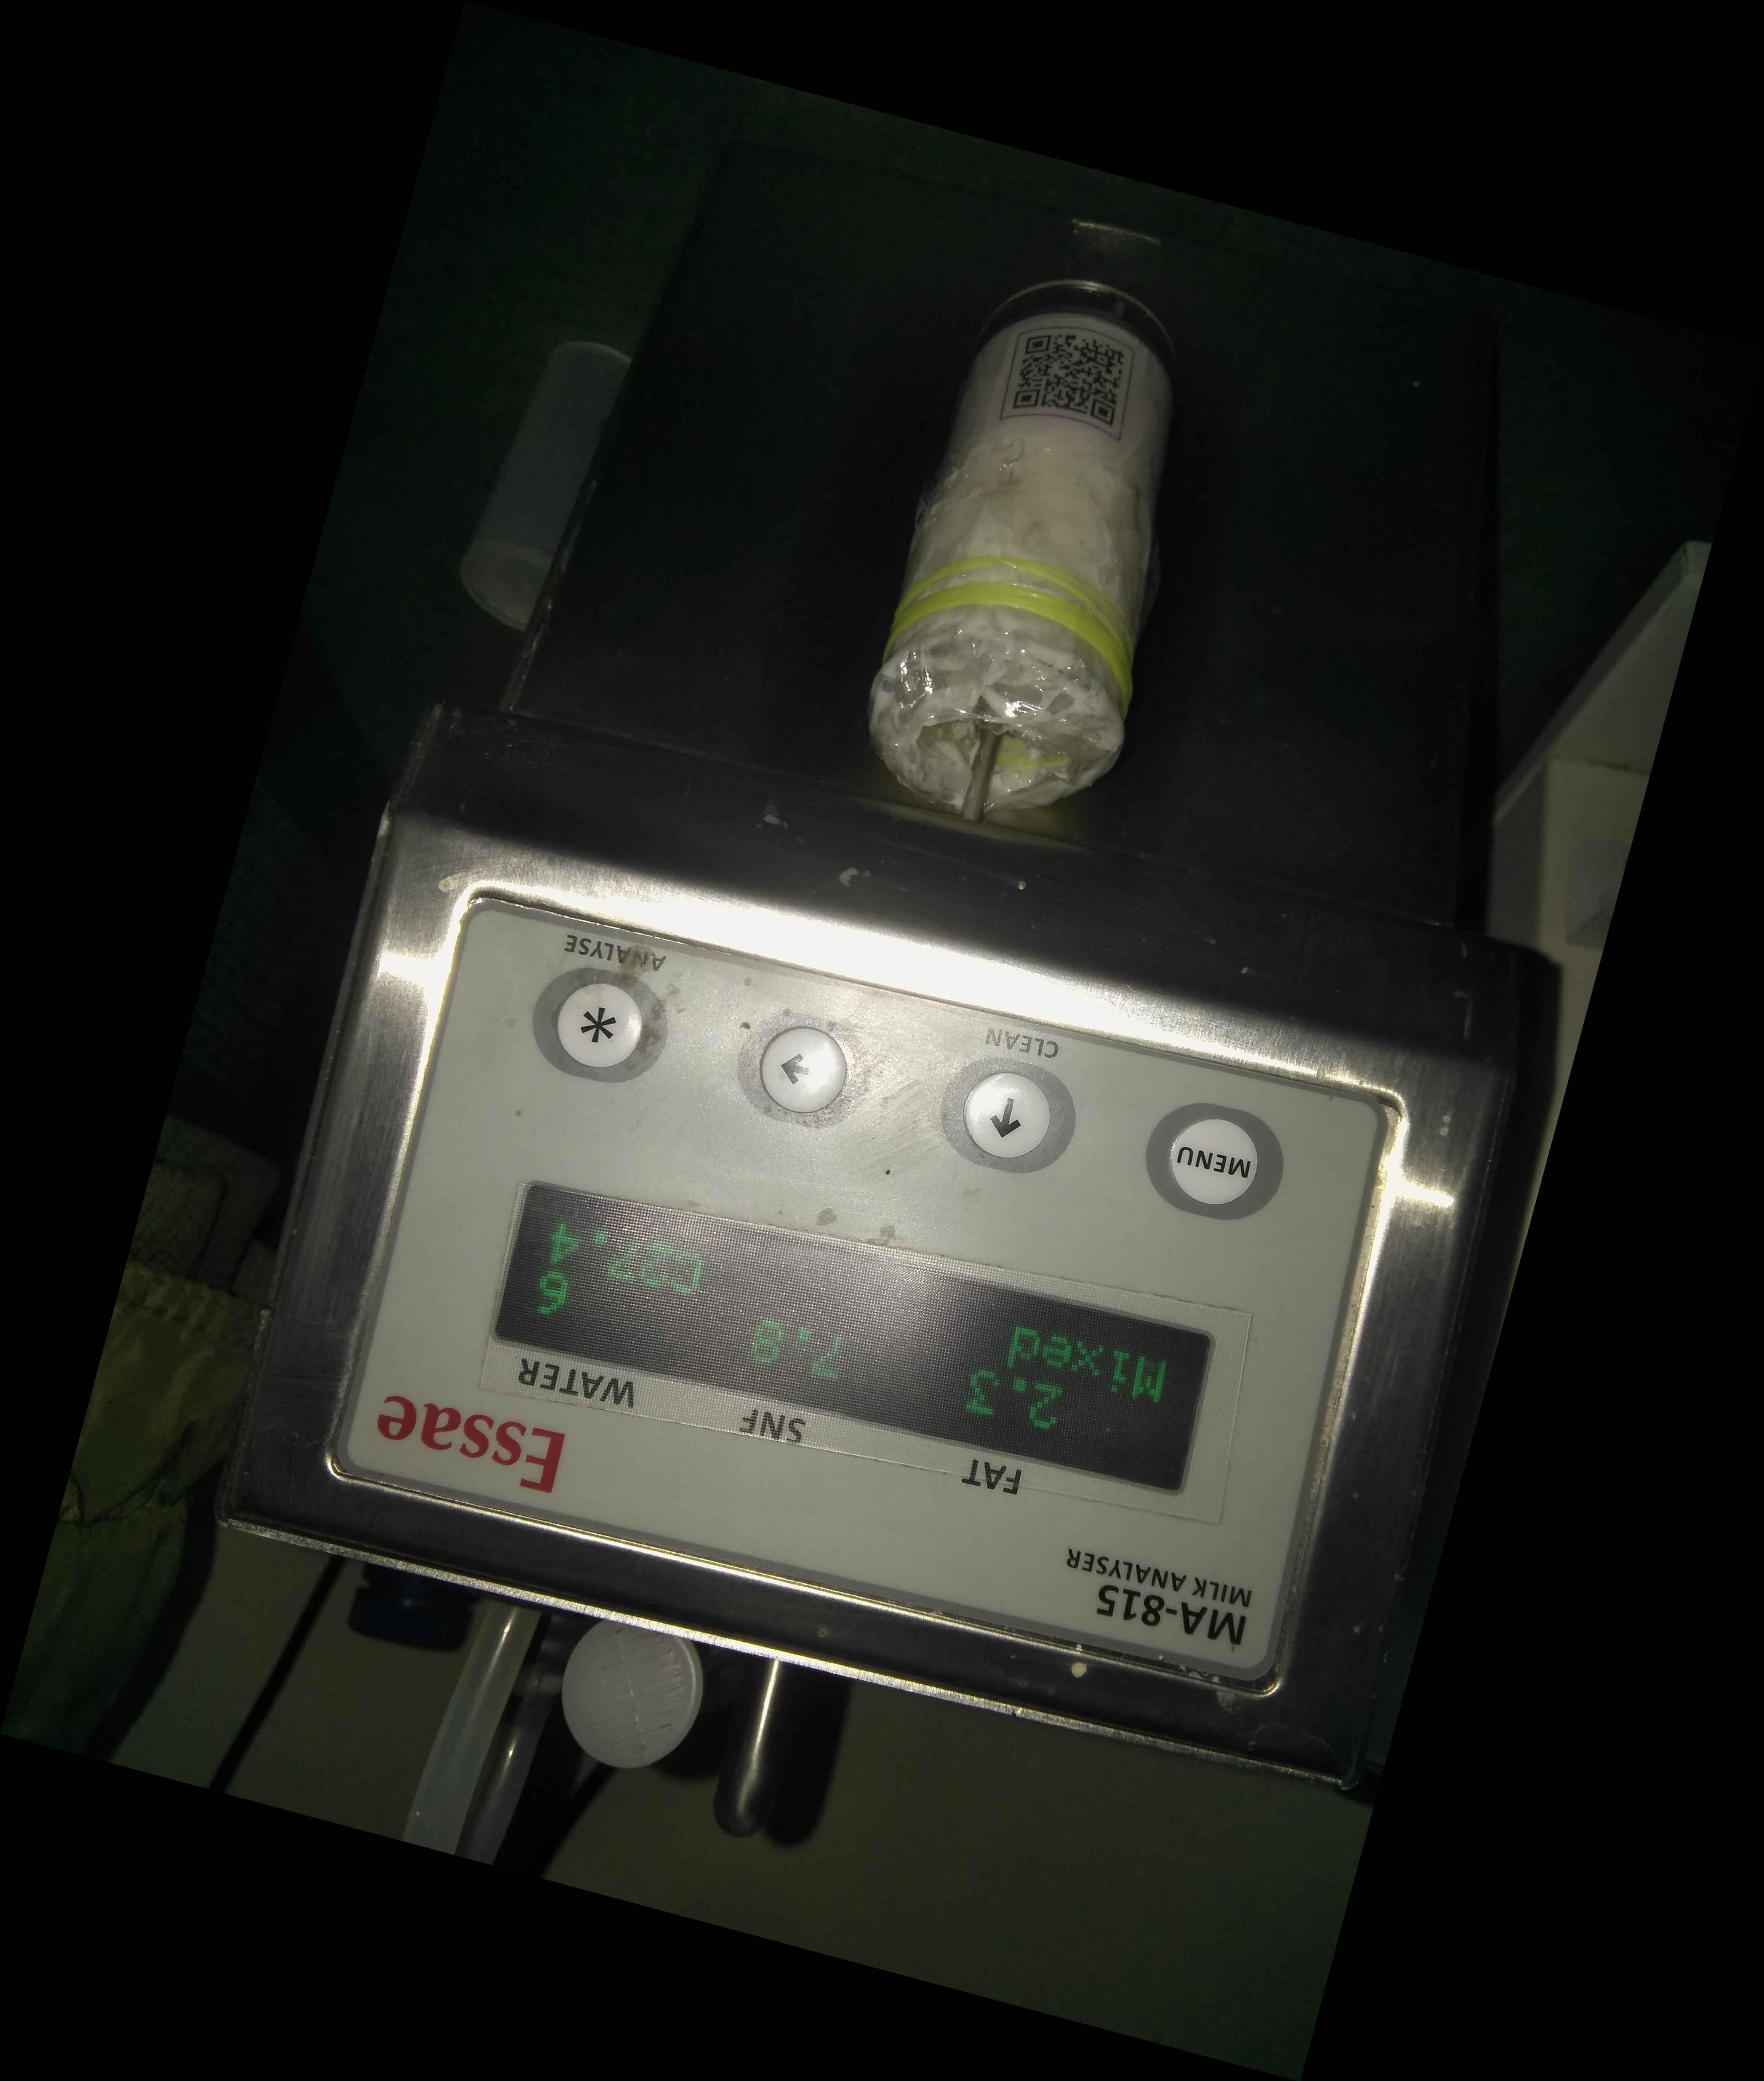lcd: (465, 1139, 1221, 1558)
qr: (992, 324, 1143, 453)
